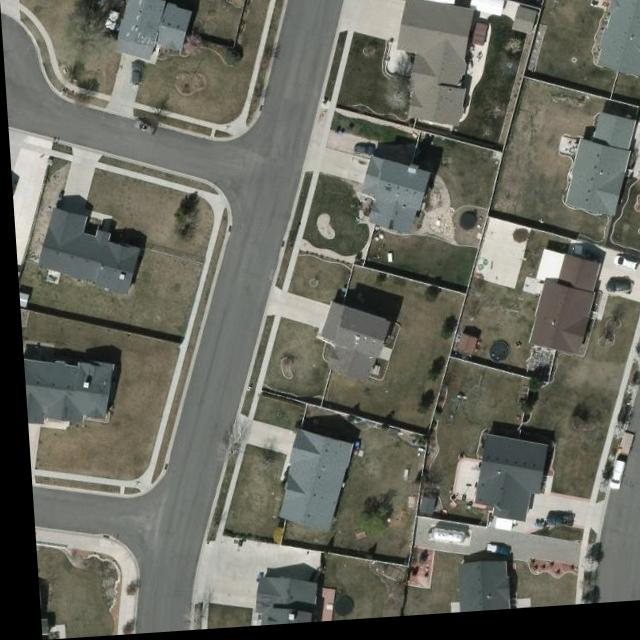vehicle: (104, 0, 127, 33), (601, 283, 630, 307), (538, 517, 569, 537), (600, 468, 620, 499), (607, 263, 636, 283), (126, 62, 146, 88), (130, 119, 155, 138), (477, 549, 504, 564), (352, 150, 374, 161)
